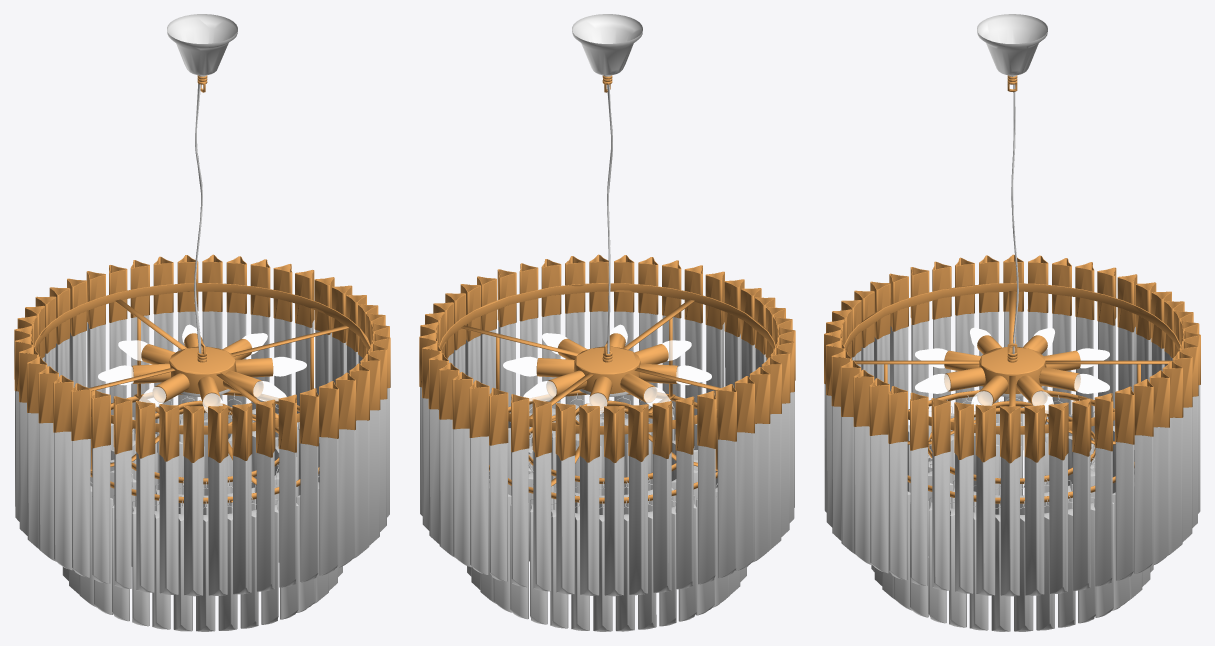
Rendered from crystal-chandelier-lamp.glb.
The picture shows the model from 3 angles, left to right: view 1: azimuth 30°, elevation 25°; view 2: azimuth 150°, elevation 25°; view 3: azimuth 270°, elevation 25°; orthographic projection.
Visible parts, largest first — view 1: Crystal, Rectangle051.007, Chandelier_Lamp3, Line002.005, Line002.001, Line002.004, Line002, Line002.002, Line002.006, Line002.003; view 2: Crystal, Rectangle051.007, Chandelier_Lamp3, Line002.006, Line002.002, Line002.007, Line002.003, Line002.001, Line002.005, Line002; view 3: Crystal, Rectangle051.007, Chandelier_Lamp3, Line002.007, Line002.004, Line002.003, Line002, Line002.006, Line002.005.
Part boxes in pixels (x1,y1,x2,y2): Crystal: (15,311,389,631); Rectangle051.007: (14,254,390,513); Chandelier_Lamp3: (34,14,370,503); Line002.005: (235,357,306,377); Line002.001: (98,363,170,385); Line002.004: (223,370,286,401); Line002: (118,340,175,364); Line002.002: (139,373,189,407); Line002.006: (222,333,267,359); Line002.003: (197,376,222,412); Crystal: (420,311,794,631); Rectangle051.007: (419,254,795,513); Chandelier_Lamp3: (439,14,775,503); Line002.006: (503,356,574,377); Line002.002: (639,363,711,385); Line002.007: (523,370,586,401); Line002.003: (634,340,691,364); Line002.001: (620,373,672,406); Line002.005: (542,333,587,359); Line002: (587,376,612,414); Crystal: (824,311,1200,631); Rectangle051.007: (824,254,1200,515); Chandelier_Lamp3: (844,14,1180,503); Line002.007: (1039,367,1109,393); Line002.004: (915,367,985,393); Line002.003: (915,348,980,370); Line002: (1044,348,1109,370); Line002.006: (1016,375,1053,413); Line002.005: (971,375,1008,414).
Size of the model in its own units: 0.5983 by 0.9614 by 0.5983.
